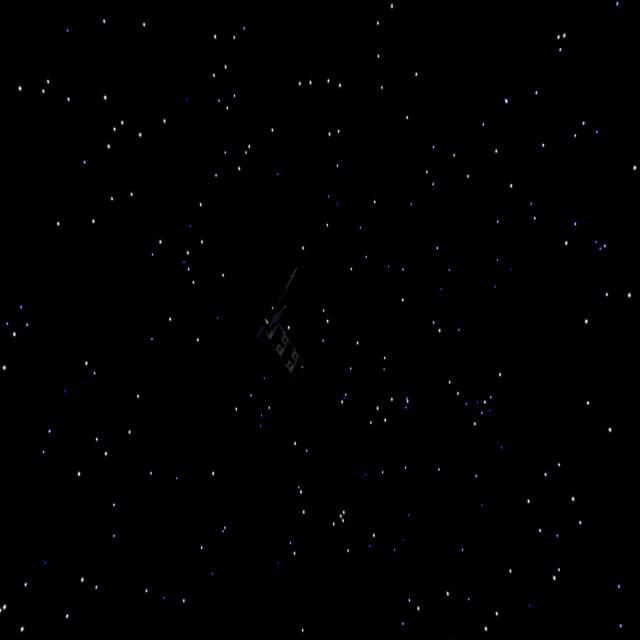medium_debris: (254, 261, 314, 379)
